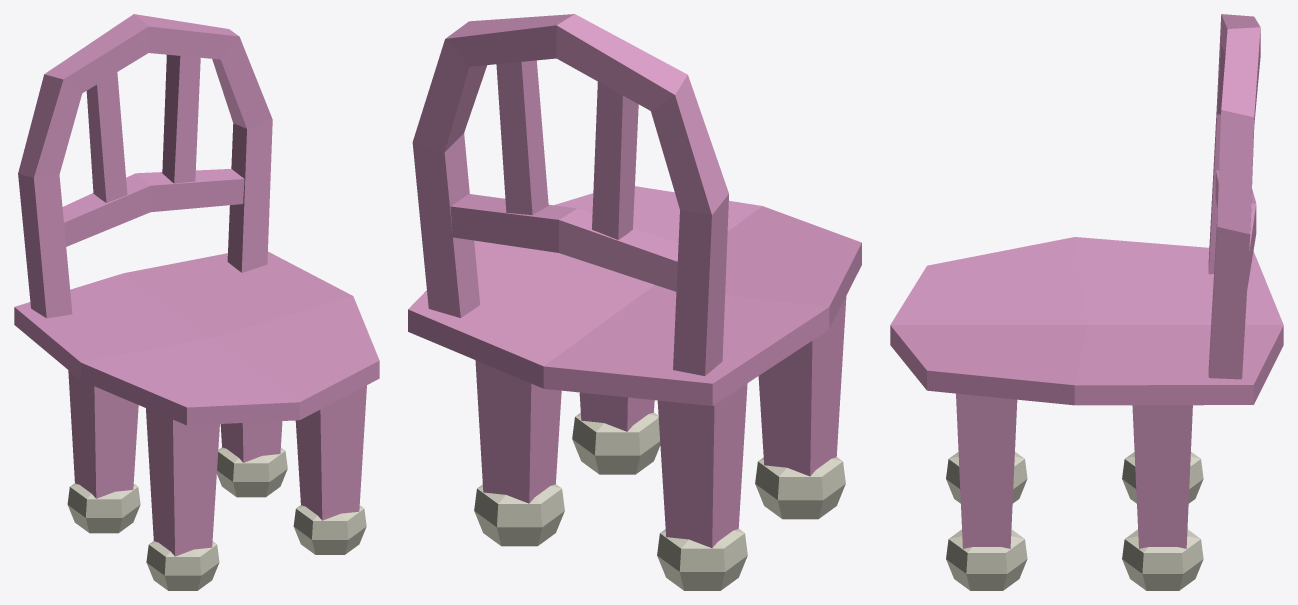
The model's file is Chair.fbx.
3 views of the same model, side by side, from view 1: azimuth 30°, elevation 25°; view 2: azimuth 150°, elevation 25°; view 3: azimuth 270°, elevation 25° (orthographic). The views are drawn at different scales.
Visible parts, largest first — view 1: 立方体; view 2: 立方体; view 3: 立方体.
Boxes of the visible parts, <box> form: 立方体: <box>14,14,379,590</box>; 立方体: <box>408,14,861,590</box>; 立方体: <box>890,14,1283,590</box>.
Size of the model in its own units: 0.6779 by 1.11 by 0.7598.
